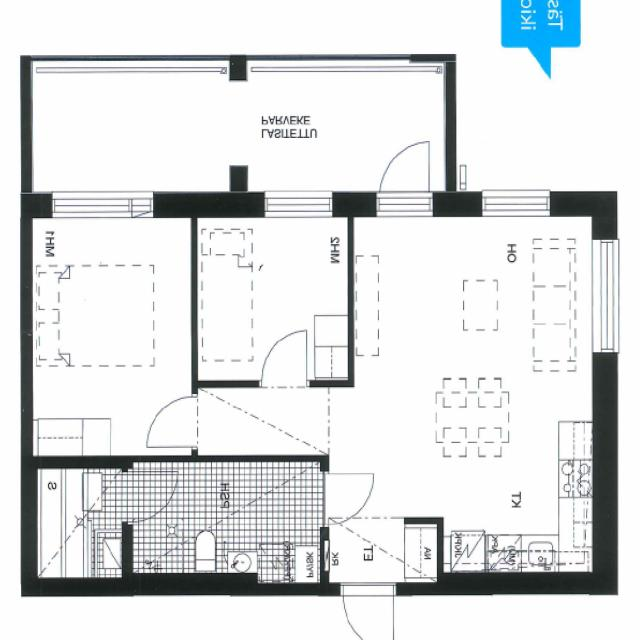door: (380, 136, 430, 216), (343, 583, 393, 640), (321, 473, 374, 524), (262, 331, 307, 388), (148, 398, 198, 447), (122, 472, 172, 521)
